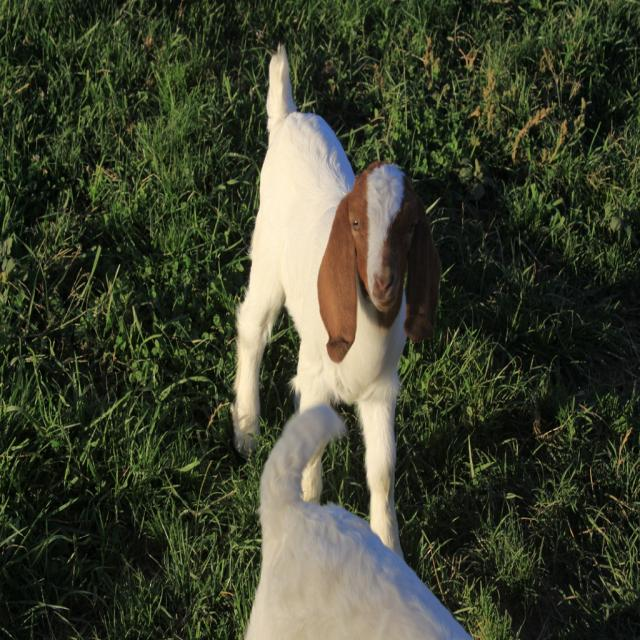Goat: (227, 77, 446, 624)
